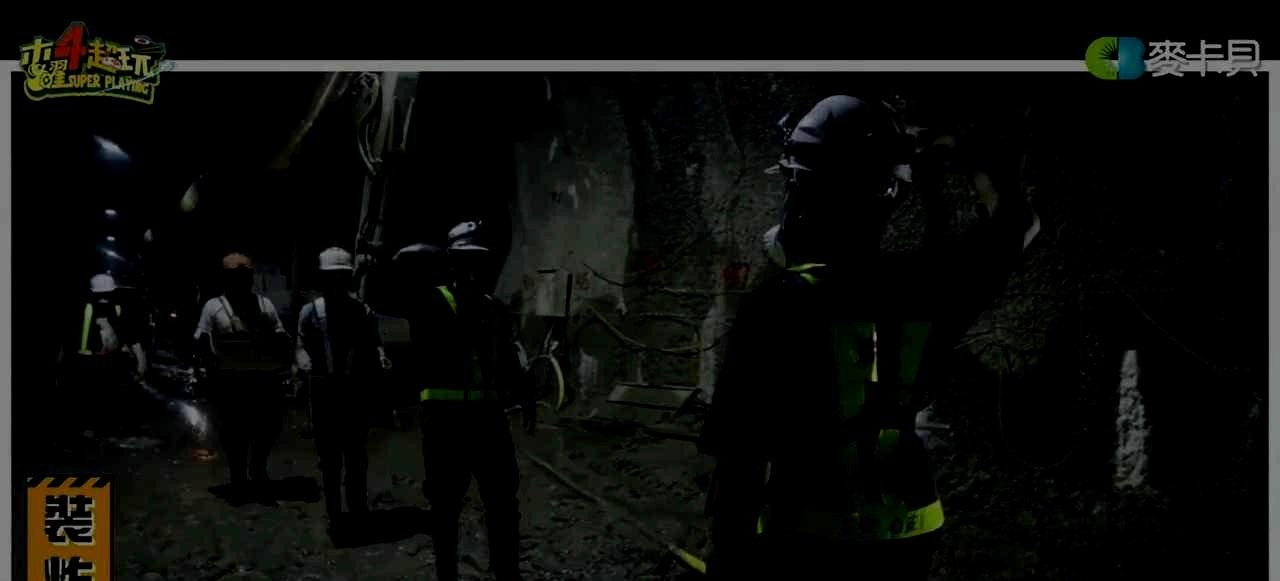helmet: (763, 95, 900, 264), (446, 220, 497, 289), (318, 246, 354, 295), (220, 251, 255, 296), (89, 273, 118, 309)
